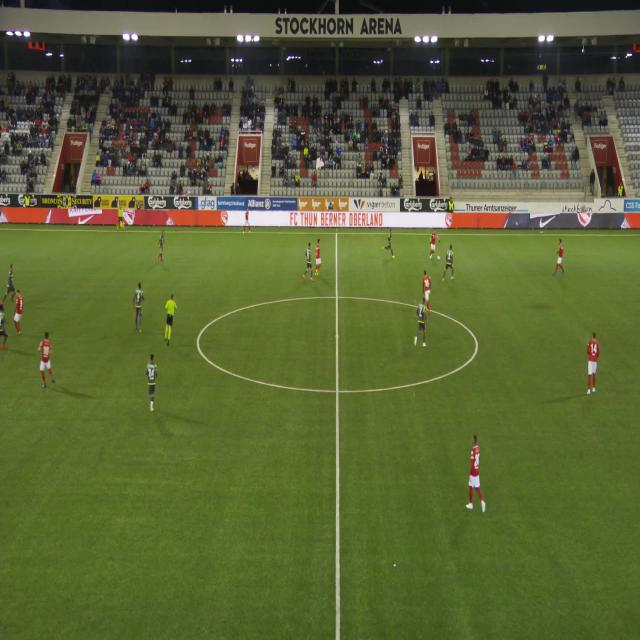Ball: (435, 249, 442, 264)
Player: (462, 434, 492, 518), (578, 326, 608, 400), (31, 326, 60, 394), (548, 226, 570, 290), (408, 296, 432, 354), (141, 352, 163, 415), (10, 284, 30, 346), (131, 275, 148, 339), (1, 256, 22, 303), (442, 238, 461, 286), (155, 225, 171, 272), (382, 219, 398, 265), (312, 236, 327, 284), (420, 268, 436, 312), (301, 240, 315, 285), (426, 227, 440, 264), (0, 302, 9, 357)
Referee: (162, 285, 184, 355), (114, 204, 127, 238)
